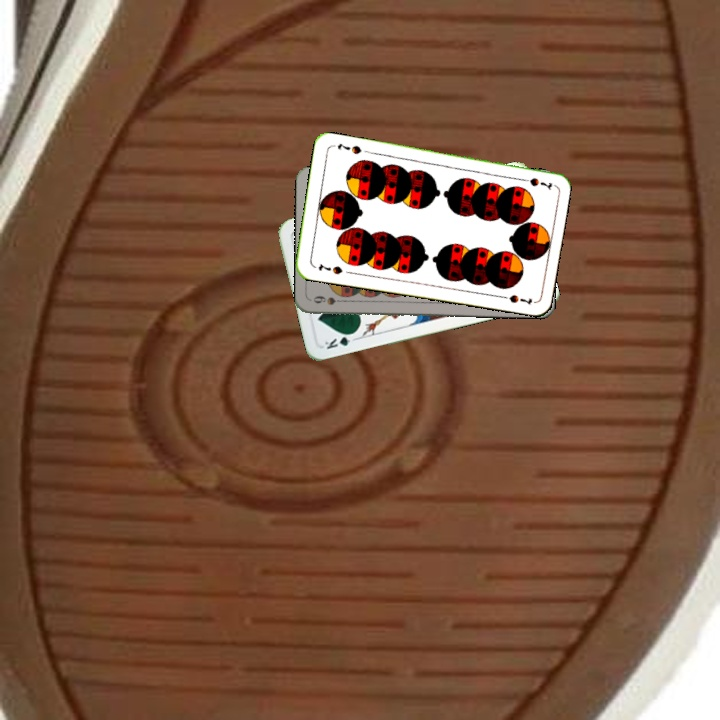GK: (320, 329, 360, 352)
S7: (514, 174, 555, 191), (314, 259, 345, 277)
S9: (310, 292, 350, 308)
